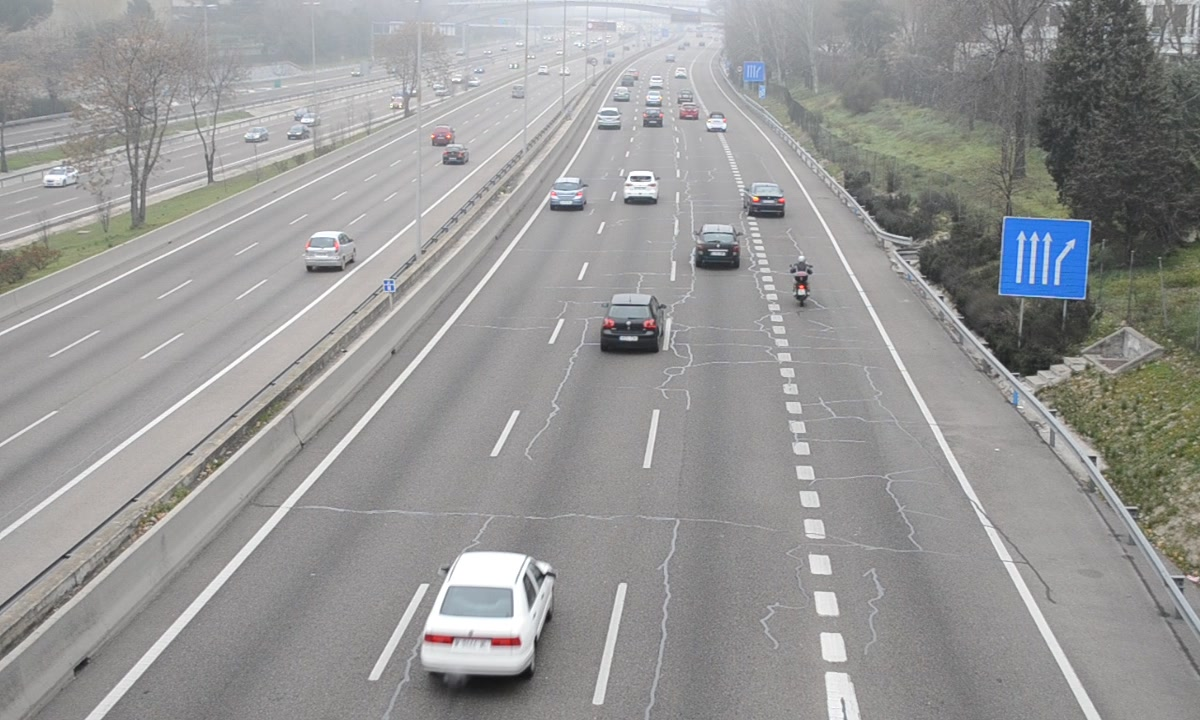car: (419, 552, 550, 679), (600, 294, 664, 349), (695, 225, 742, 269), (744, 181, 786, 218), (548, 176, 588, 211), (622, 171, 661, 204), (597, 104, 620, 129)
motorcycle: (790, 254, 814, 310)
